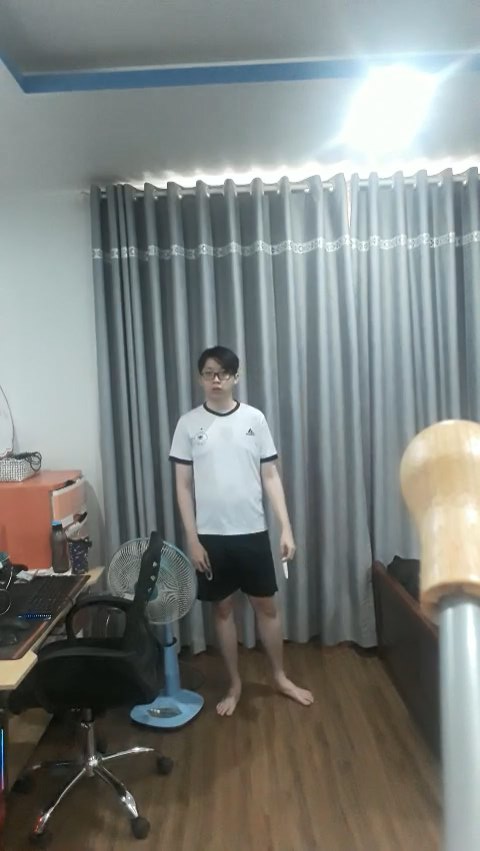cigarette: (283, 559, 290, 581)
person: (163, 341, 321, 717)
